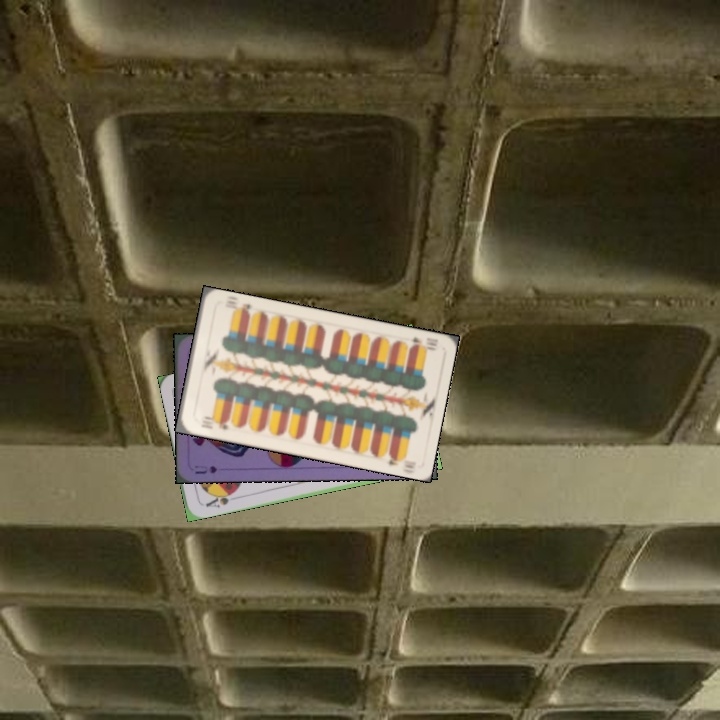E10: (406, 333, 440, 353), (197, 416, 231, 432)
SA: (202, 487, 238, 510)
SU: (191, 461, 219, 476)
